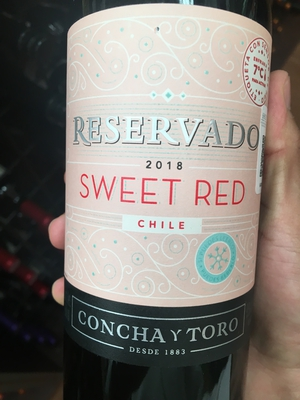reservado sweet red: (64, 8, 270, 400)
